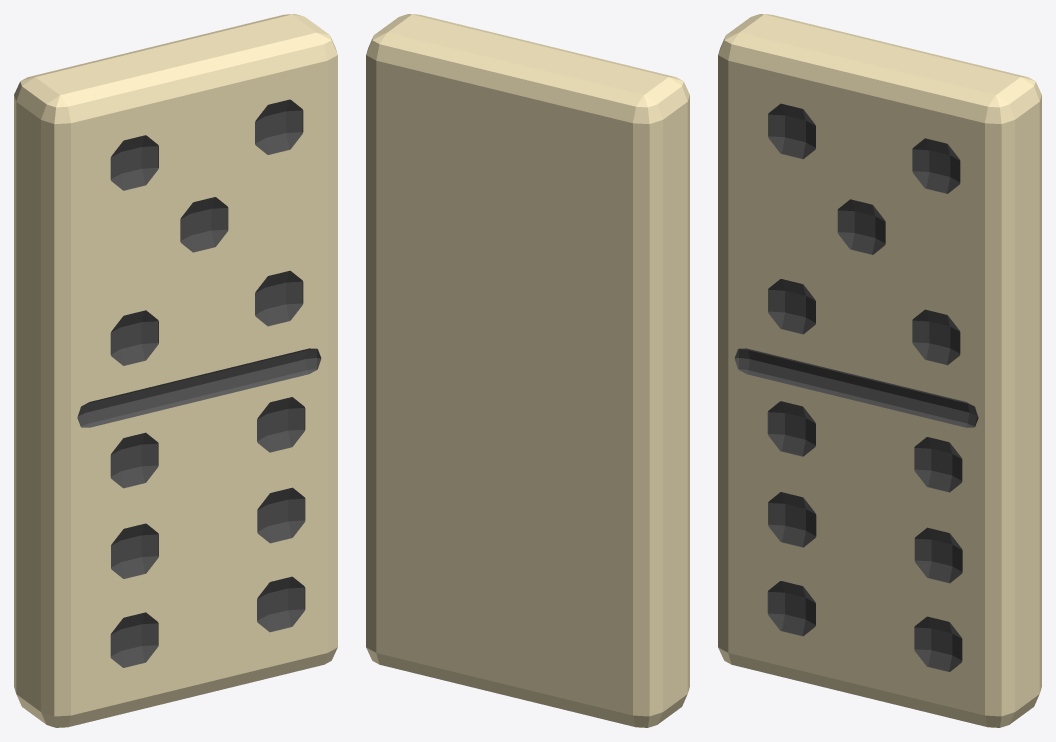
File: dominoes 6x5.fbx
3 renders of one model, left to right at view 1: azimuth 30°, elevation 25°; view 2: azimuth 150°, elevation 25°; view 3: azimuth 330°, elevation 25°, orthographic.
Parts seen in each view (by area): view 1: Boole_27; view 2: Boole_27; view 3: Boole_27.
Boxes of the visible parts, <box> form: Boole_27: <box>14,14,337,727</box>; Boole_27: <box>366,14,689,727</box>; Boole_27: <box>718,14,1041,727</box>.
Size of the model in its own units: 200 by 410 by 55.02.
